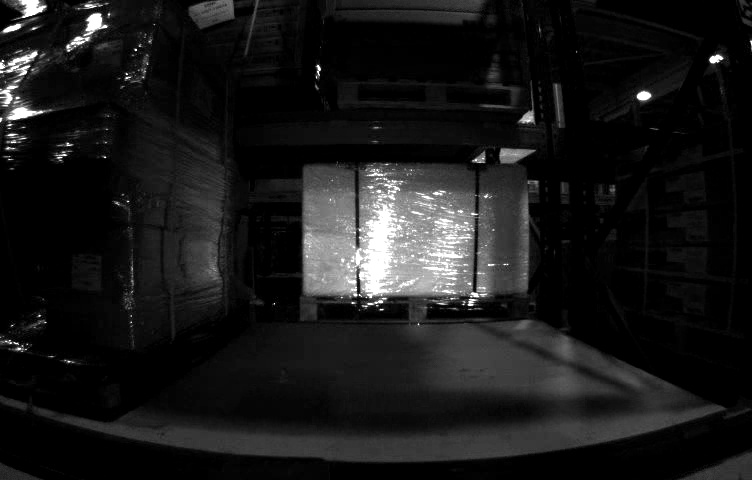True Barcode: (70, 253, 103, 292)
